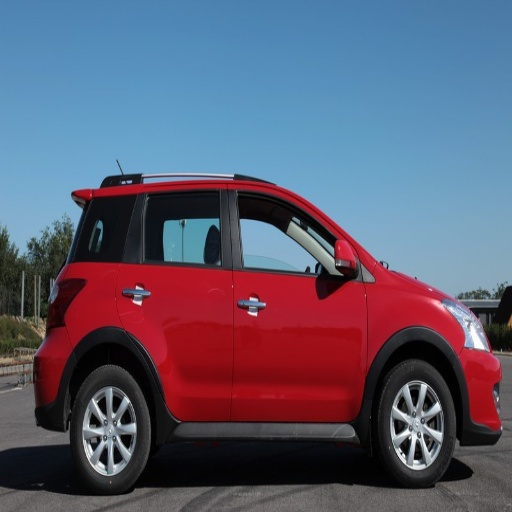back_right_door: (120, 184, 230, 419)
front_right_door: (231, 185, 366, 418)
